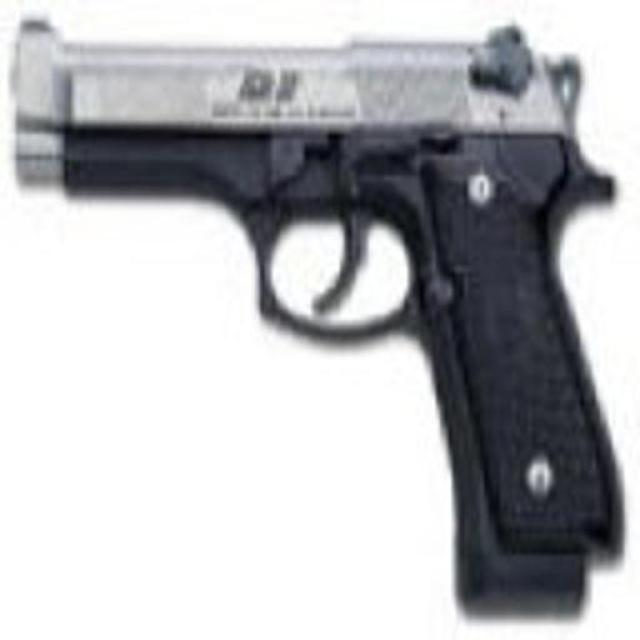pistol: (15, 5, 620, 570)
